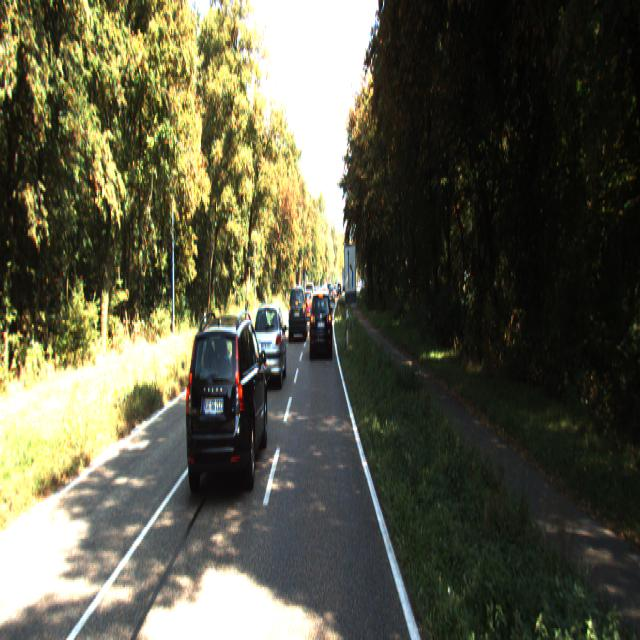Car: (183, 305, 270, 499), (252, 298, 287, 387), (309, 285, 332, 355), (289, 282, 307, 337)
